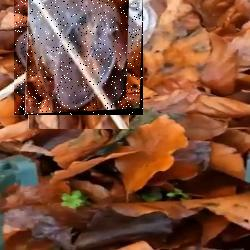plastic: (14, 0, 143, 115)
